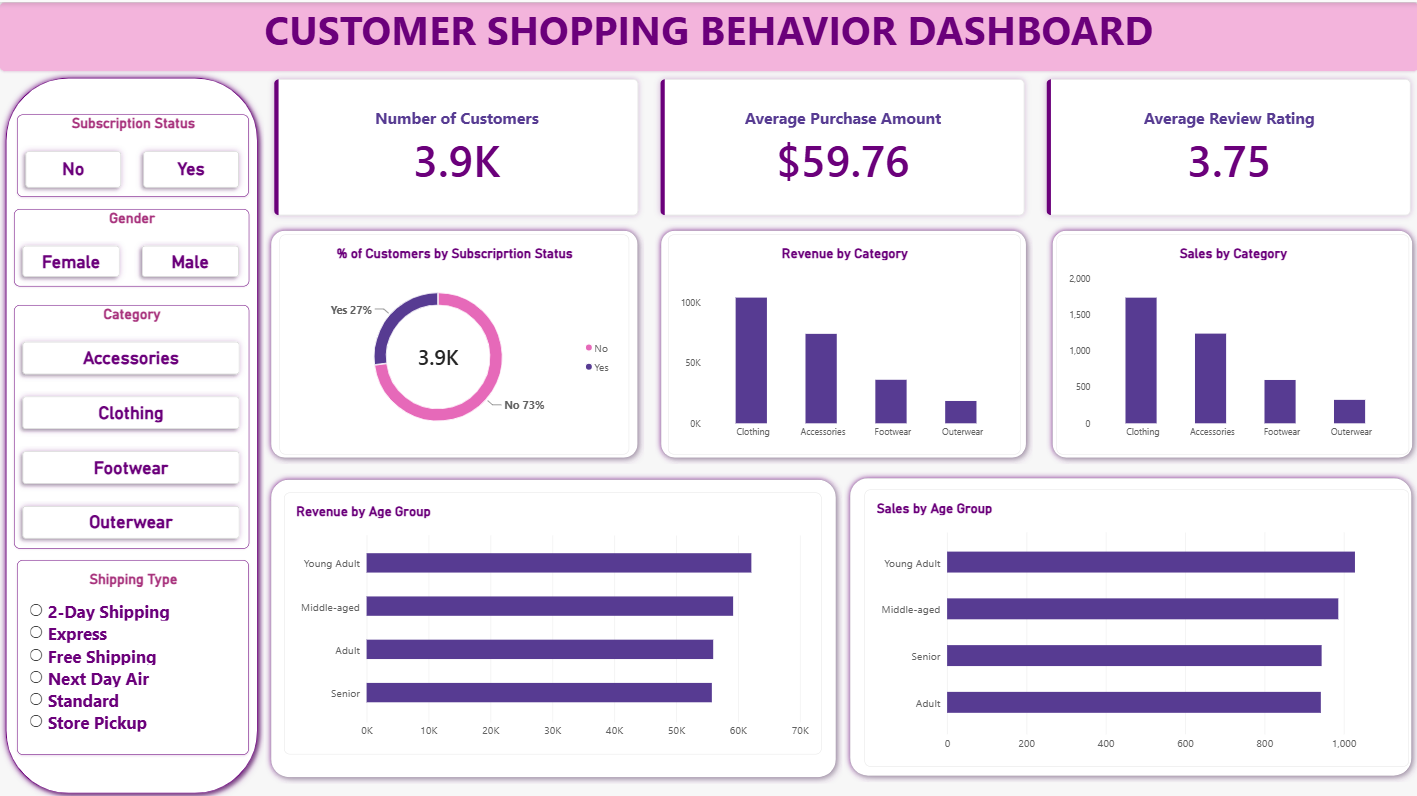

This screenshot's page, from the dashboard's own definition file:
{"tool":"powerbi","page":{"name":"Customer Shopping Behavior Dashboard","canvas":[1920,1080],"ordinal":0},"visuals":[{"type":"cardVisual","fields":{"Data":["customer.Number of Customers","customer.Average Purchase Amount","customer.Average Review Rating"]},"box":[360,94,1560,206],"z":0},{"type":"textbox","box":[0,0,1920,94],"z":1000},{"type":"shape","box":[358.9,299.8,513.3,324.8],"z":2000},{"type":"donutChart","title":"% of  Customers by Subscriprtion Status","fields":{"Category":["customer.subscription_status"],"Y":["CountNonNull(customer.customer_id)"]},"box":[379.3,313.4,472.4,297.5],"z":3000},{"type":"shape","box":[885.8,299.8,511,324.8],"z":4000},{"type":"shape","box":[1415,299.8,504.2,324.8],"z":5000},{"type":"clusteredColumnChart","title":"Revenue by Category","fields":{"Category":["customer.category"],"Y":["Sum(customer.purchase_amount)"]},"box":[904,313.4,477,297.5],"z":6000},{"type":"clusteredColumnChart","title":"Sales by Category","fields":{"Category":["customer.category"],"Y":["CountNonNull(customer.customer_id)"]},"box":[1428.7,313.4,477,297.5],"z":7000},{"type":"shape","box":[0,93.1,358.9,985.7],"z":8000},{"type":"advancedSlicerVisual","fields":{"Values":["customer.subscription_status"]},"box":[25,152.2,313.4,111.3],"z":9000},{"type":"advancedSlicerVisual","fields":{"Values":["customer.gender"]},"box":[20.4,279.4,318,104.5],"z":10000},{"type":"advancedSlicerVisual","title":"Category","fields":{"Values":["customer.category"]},"box":[20.4,408.8,318,329.3],"z":11000},{"type":"listSlicer","fields":{"Values":["customer.shipping_type"]},"box":[25,754.1,313.4,263.5],"z":12000},{"type":"shape","box":[358.9,636,781.3,420.2],"z":14000},{"type":"shape","box":[1142.5,633.7,776.8,420.2],"z":15000},{"type":"clusteredBarChart","title":"Sales by Age Group","fields":{"Category":["customer.age_group"],"Y":["CountNonNull(customer.customer_id)"]},"box":[1169.7,658.7,735.9,374.8],"z":16000},{"type":"clusteredBarChart","title":"Revenue by Age Group","fields":{"Category":["customer.age_group"],"Y":["Sum(customer.purchase_amount)"]},"box":[386.1,663.2,726.8,354.3],"z":16500}]}

Visuals, with their boxes in screenshot pixels (x1, y1, x2, y2), scaled from the page's 1920x1080 canvas onto the 1417x796 screenshot:
cardVisual - customer.Number of Customers x customer.Average Purchase Amount: bbox=[266, 69, 1416, 221]
textbox: bbox=[0, 0, 1416, 69]
shape: bbox=[265, 221, 644, 460]
"% of  Customers by Subscriprtion Status" donutChart: bbox=[280, 231, 629, 450]
shape: bbox=[654, 221, 1031, 460]
shape: bbox=[1044, 221, 1416, 460]
"Revenue by Category" clusteredColumnChart: bbox=[667, 231, 1019, 450]
"Sales by Category" clusteredColumnChart: bbox=[1054, 231, 1406, 450]
shape: bbox=[0, 69, 265, 795]
advancedSlicerVisual - customer.subscription_status: bbox=[18, 112, 250, 194]
advancedSlicerVisual - customer.gender: bbox=[15, 206, 250, 283]
"Category" advancedSlicerVisual: bbox=[15, 301, 250, 544]
listSlicer - customer.shipping_type: bbox=[18, 556, 250, 750]
shape: bbox=[265, 469, 841, 778]
shape: bbox=[843, 467, 1416, 777]
"Sales by Age Group" clusteredBarChart: bbox=[863, 485, 1406, 762]
"Revenue by Age Group" clusteredBarChart: bbox=[285, 489, 821, 750]
